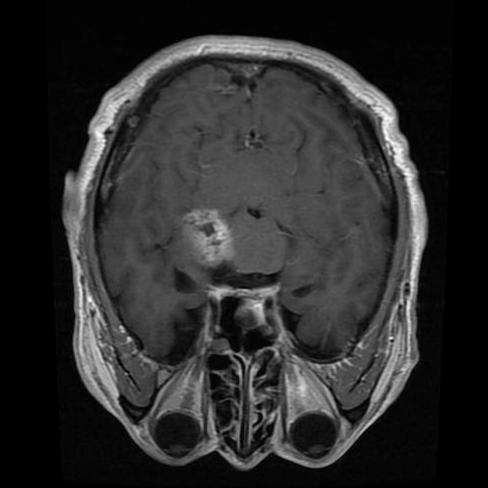Tumour-Meningioma: (152, 195, 238, 270)
